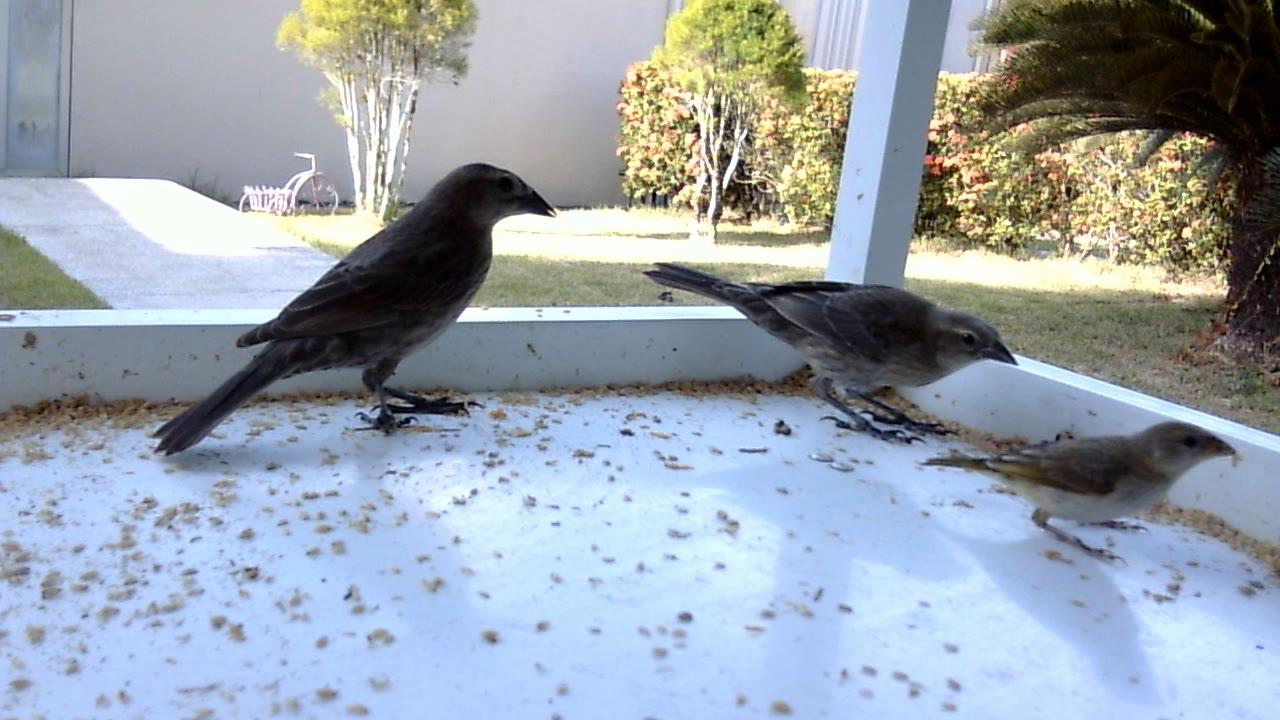canario_do_amazonas: (917, 419, 1241, 570)
chupim: (147, 160, 561, 461), (640, 259, 1023, 448)
